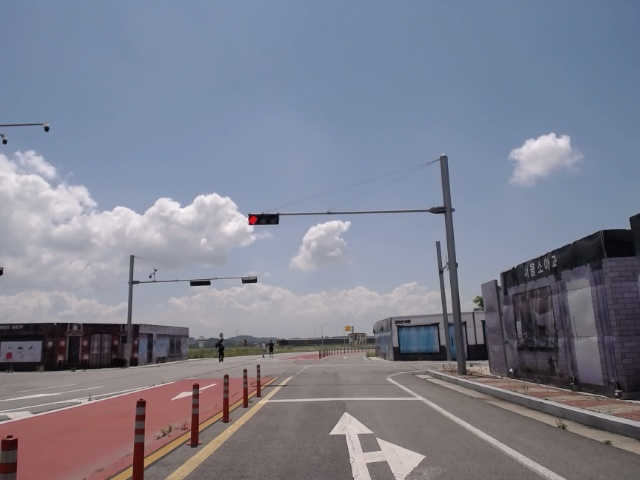red_3: (247, 214, 280, 225)
